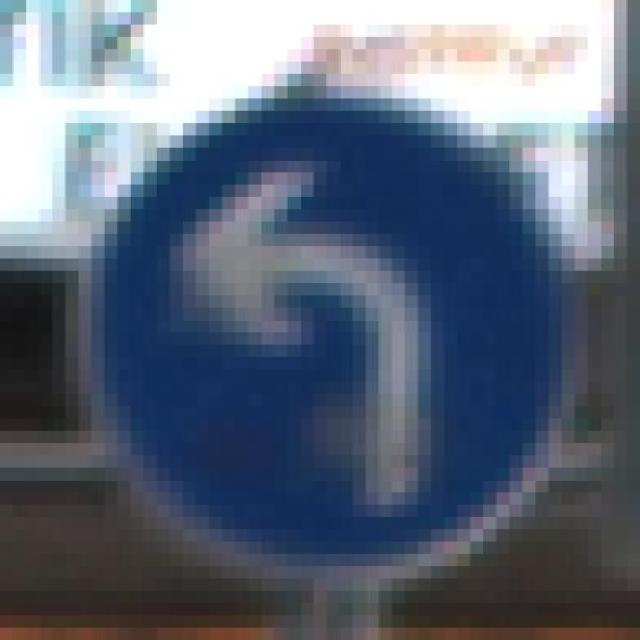Turn left ahead: (52, 91, 600, 583)
